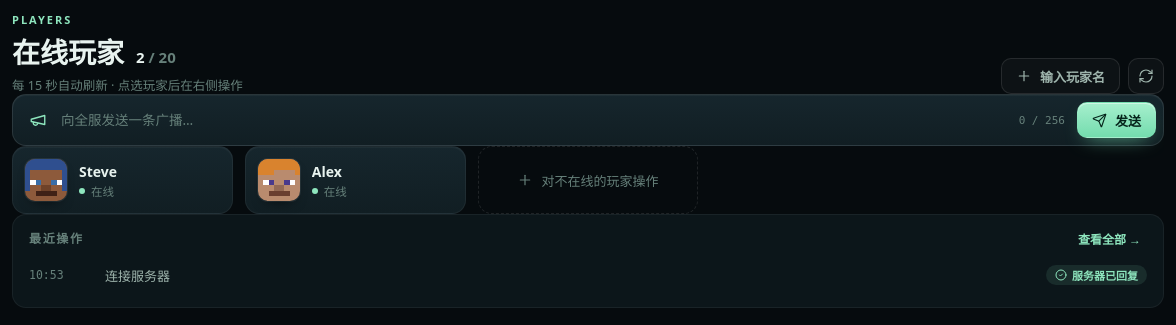
broadcast composer › counts code points
Type "😀😀" into the field named "广播内容".
click(533, 120); type("😀😀")  # box top-left (59, 110), bottom-right (1007, 130)
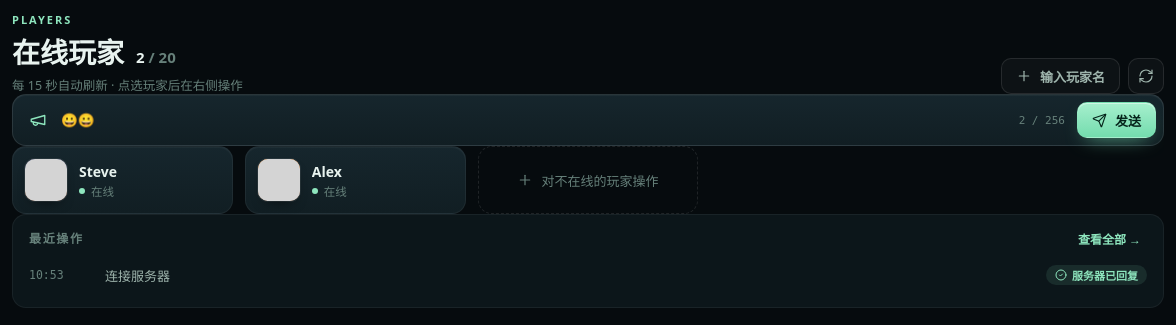
Expected: the text "2 / 256" is shown, top-left (1019, 114), bottom-right (1065, 126)
